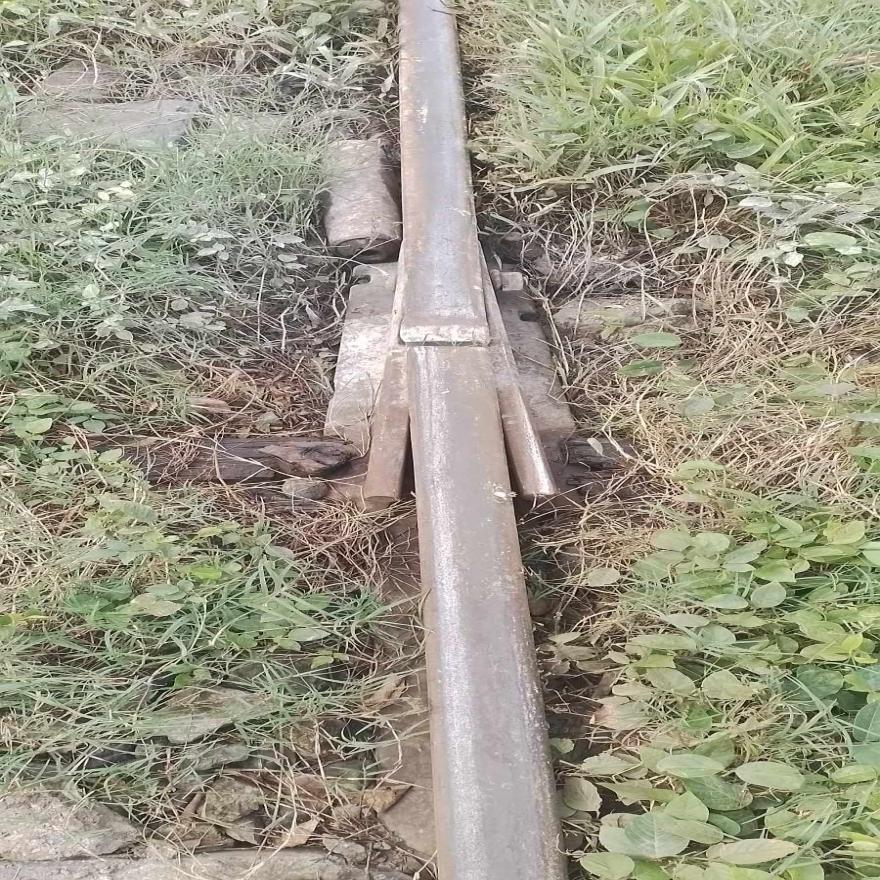railway-gap: (353, 302, 547, 391)
